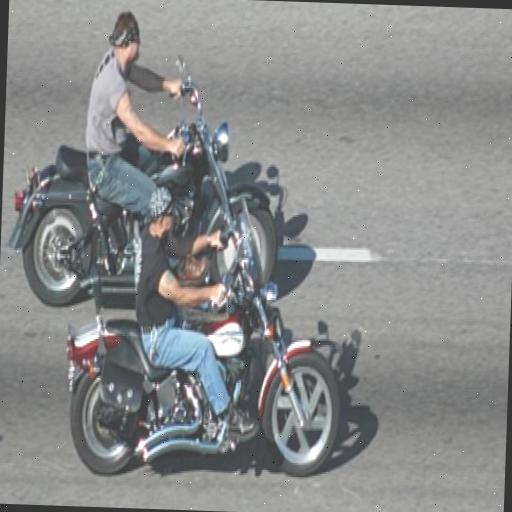no helmet: (124, 176, 250, 434), (76, 2, 195, 210)
